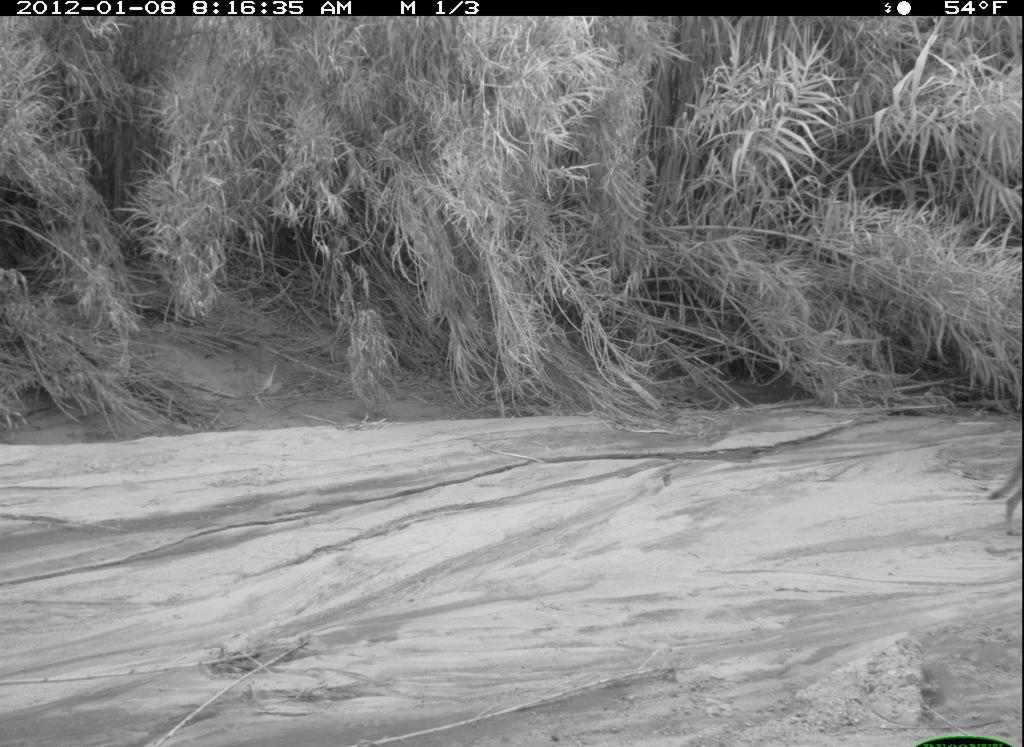coyote: (982, 440, 1023, 543)
